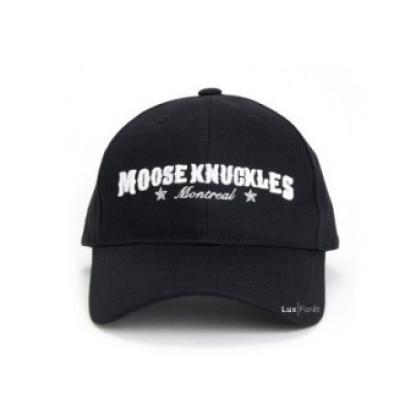cap: (72, 78, 340, 340)
